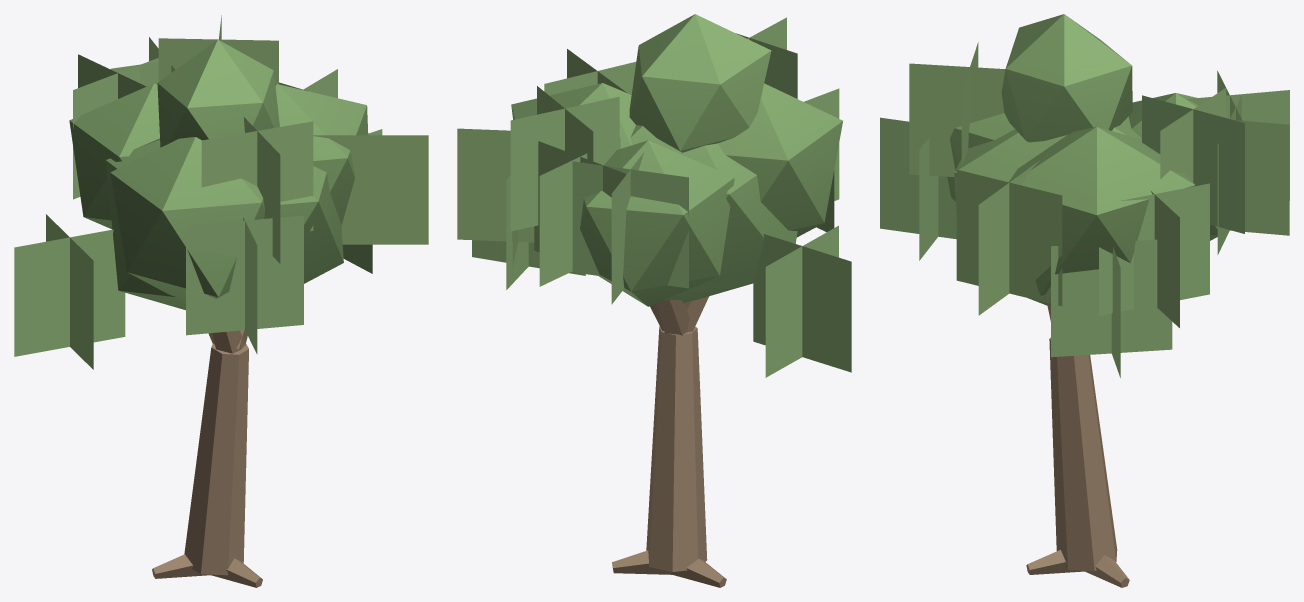
The model's file is tree_round_3.glb.
3 views of the same model, side by side, from view 1: azimuth 30°, elevation 25°; view 2: azimuth 150°, elevation 25°; view 3: azimuth 270°, elevation 25° (orthographic).
Parts seen in each view (by area): view 1: racimos, copa, tronco; view 2: copa, racimos, tronco; view 3: racimos, copa, tronco.
Boxes of the visible parts, box(x1,y1,x2,y2) form: racimos: box(14, 15, 428, 369); copa: box(69, 39, 368, 310); tronco: box(152, 330, 262, 587); copa: box(511, 14, 842, 306); racimos: box(457, 17, 851, 377); tronco: box(612, 296, 726, 587); racimos: box(880, 42, 1289, 377); copa: box(947, 14, 1217, 306); tronco: box(1026, 306, 1129, 587).
Bounding box in the file's own units: 2.2 × 3.07 × 2.07.
